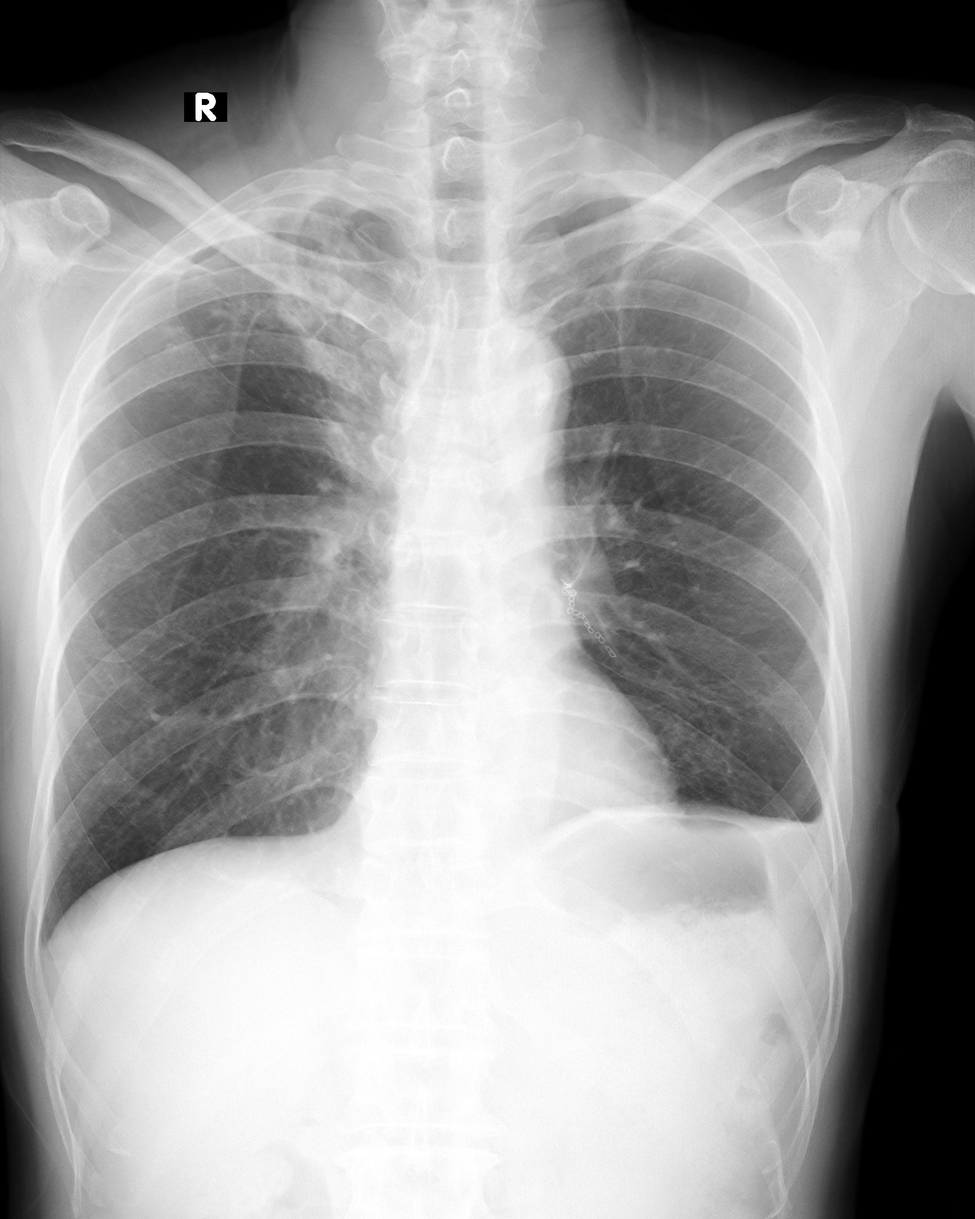Pleural thickening: (795, 756, 840, 869), (236, 190, 363, 223), (508, 175, 591, 212)
Pulmonary fibrosis: (268, 231, 394, 486), (163, 284, 258, 364)
